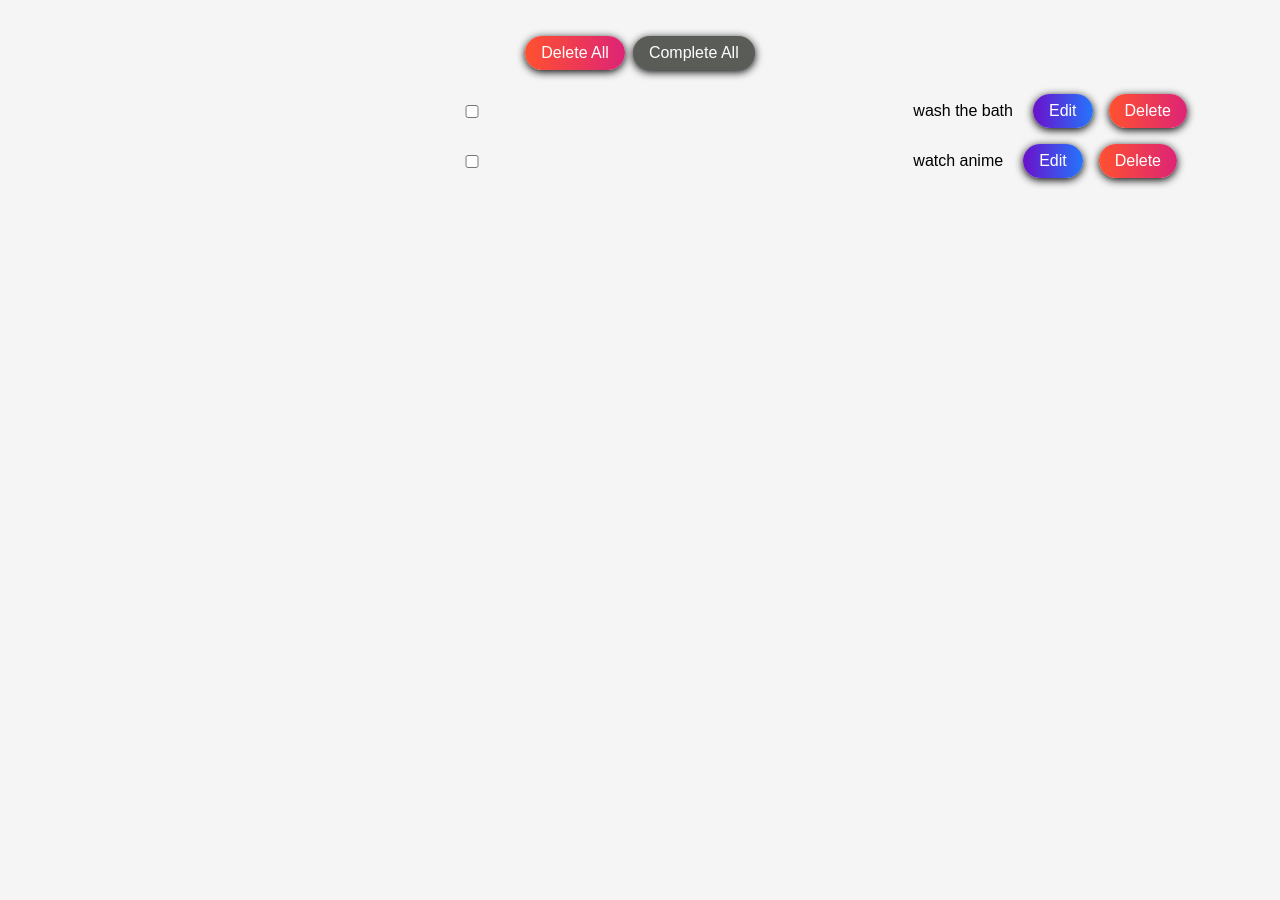
it: Deleting a todo- client side validation › User clicks the delete button; a todo item is removed from list
Click the button "Delete" in the row of "wash the bath" at (1148, 111), box [1108,94,1187,128]
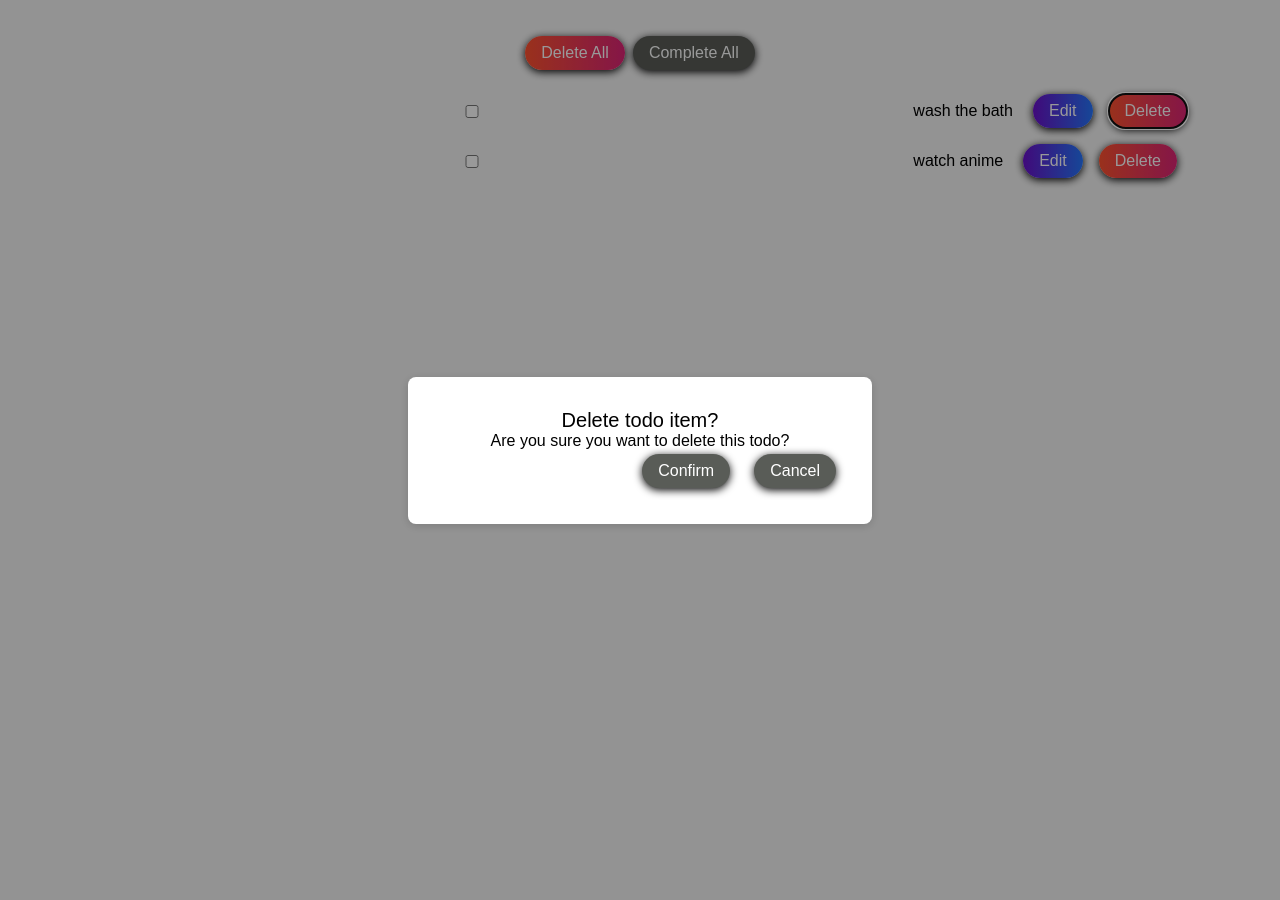
Expected: the element with class "modal-overlay" is shown
Expected: the button "Confirm" is shown, [642,454,730,488]
